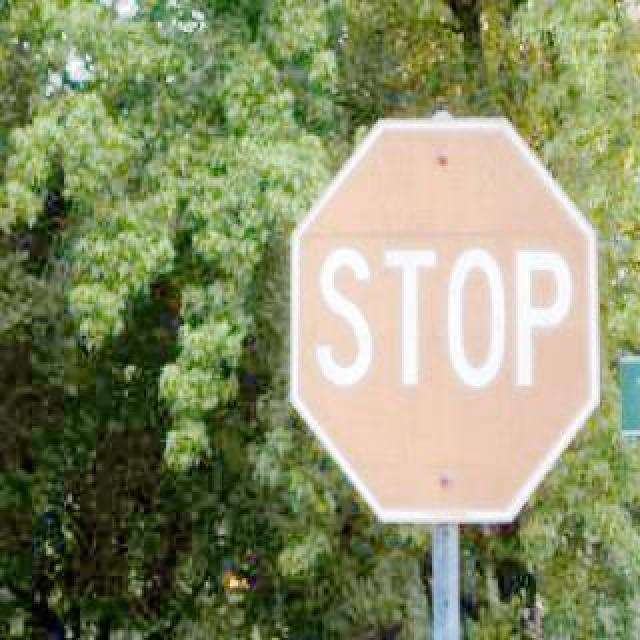stop: (284, 114, 600, 520)
